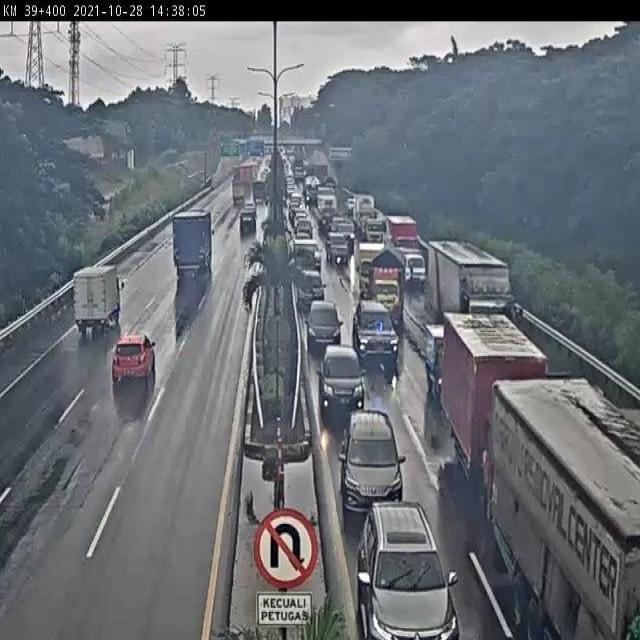big truck: (496, 393, 640, 640), (439, 312, 550, 492), (47, 253, 134, 348), (442, 255, 523, 357), (165, 194, 219, 282), (370, 252, 412, 331)
car: (351, 485, 451, 640), (345, 400, 414, 512), (98, 316, 164, 404), (322, 336, 370, 432), (348, 294, 398, 366), (416, 317, 448, 407), (308, 283, 339, 361), (296, 267, 330, 324), (237, 199, 266, 241)
